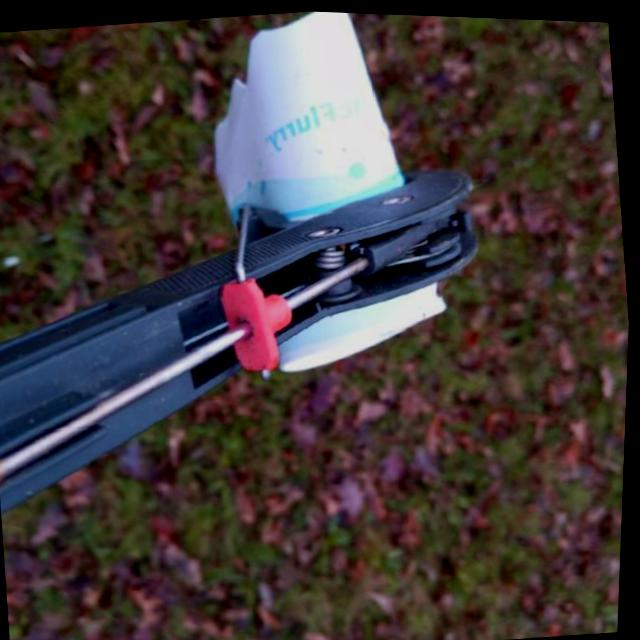Paper: (189, 6, 465, 383)
